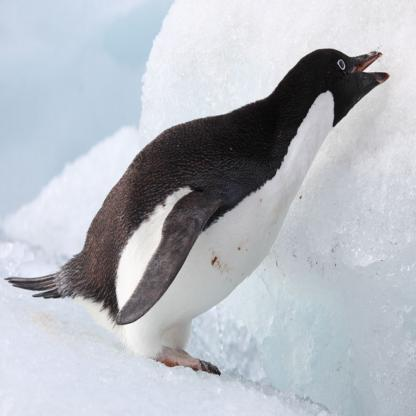Penguin: (6, 37, 396, 383)
